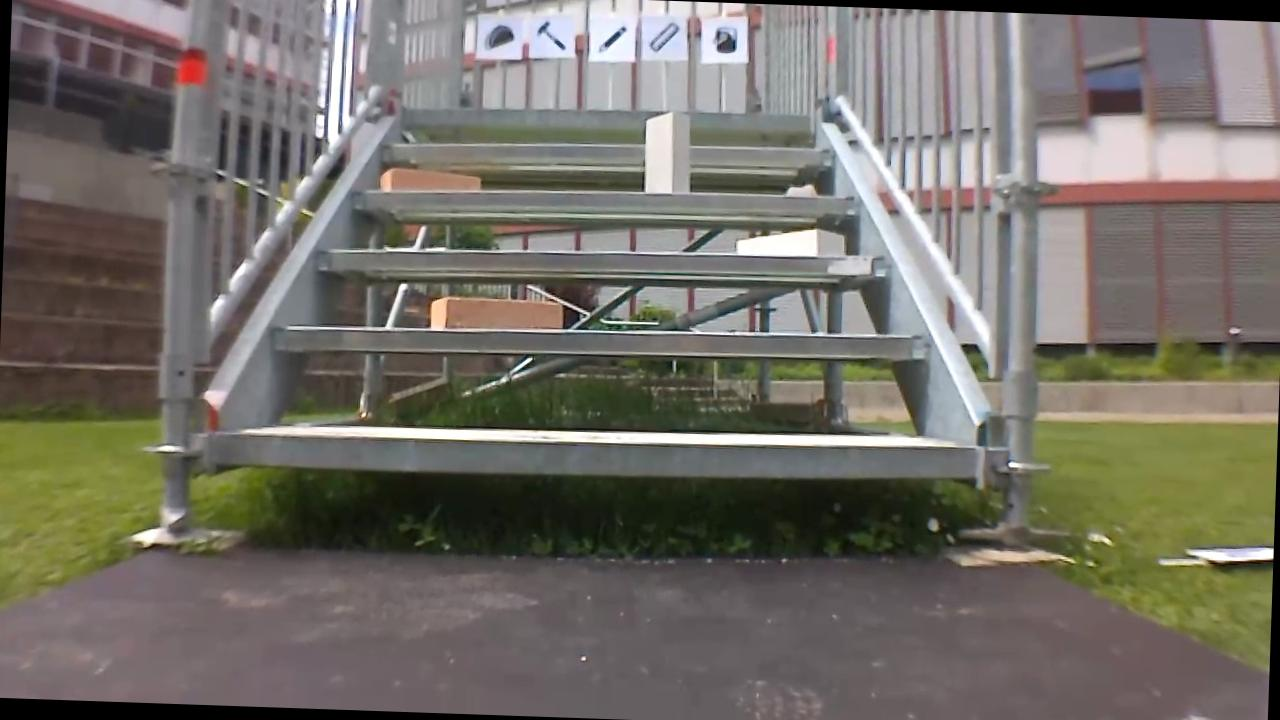brick: (431, 296, 562, 332), (644, 111, 691, 194), (734, 226, 843, 258), (380, 167, 479, 191)
bucket: (707, 23, 740, 56)
edge: (213, 419, 974, 488), (270, 312, 929, 367), (318, 236, 890, 286), (351, 179, 857, 219), (380, 131, 833, 171), (405, 99, 813, 134)
hammer: (528, 18, 570, 54)
pencil: (594, 21, 627, 57)
ruler: (643, 17, 683, 56)
steps: (200, 87, 994, 499)
taco: (479, 19, 517, 54)
